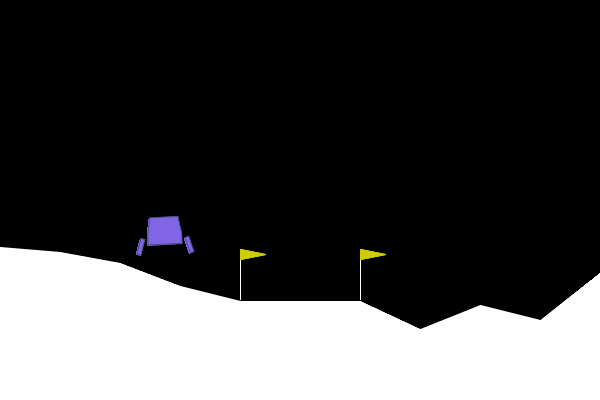lander: (133, 214, 195, 257)
